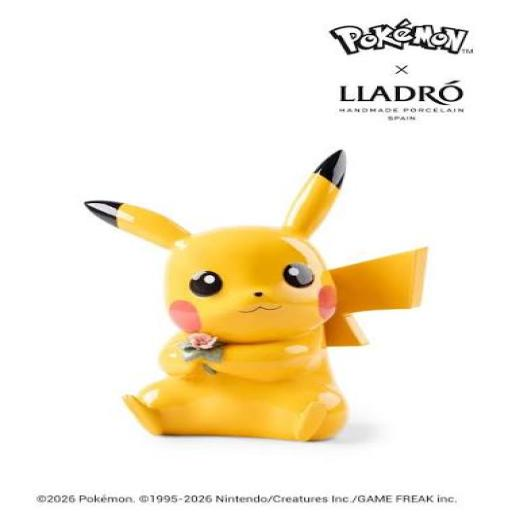Pikachu: (84, 150, 428, 443)
